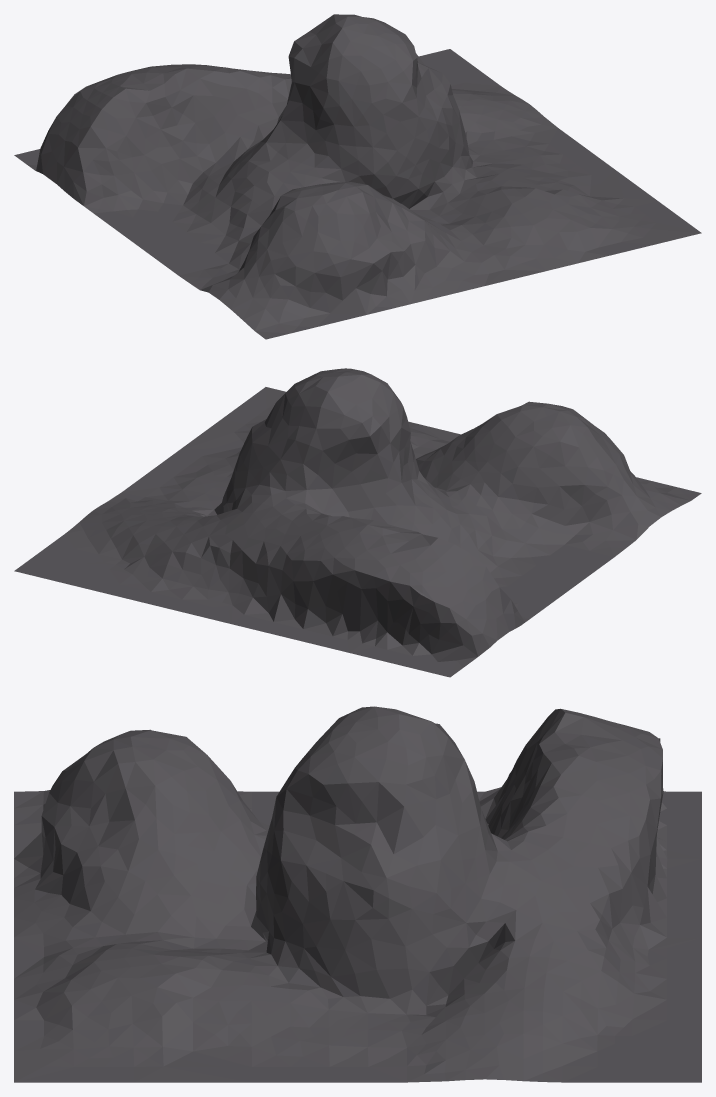
The model's file is Hill2.gltf.
3 views of the same model, one above another, from view 1: azimuth 30°, elevation 25°; view 2: azimuth 150°, elevation 25°; view 3: azimuth 270°, elevation 25° (orthographic). The views are drawn at different scales.
Visible parts, largest first — view 1: Plane; view 2: Plane; view 3: Plane.
Part boxes in pixels (left/top/right/bottom): Plane: left=14, top=14, right=701, bottom=339; Plane: left=14, top=368, right=701, bottom=677; Plane: left=14, top=706, right=701, bottom=1082.
Bounding box in the file's own units: 12.84 × 4.55 × 12.57.
1 material, 1 textured.
